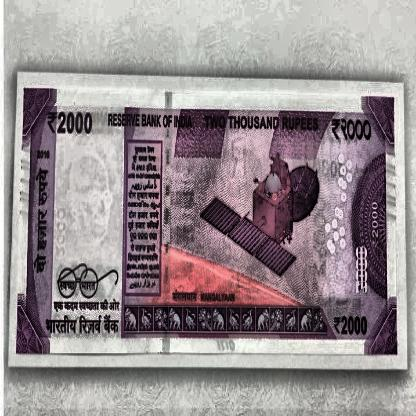Rs2000: (45, 105, 95, 139), (332, 307, 371, 338)
